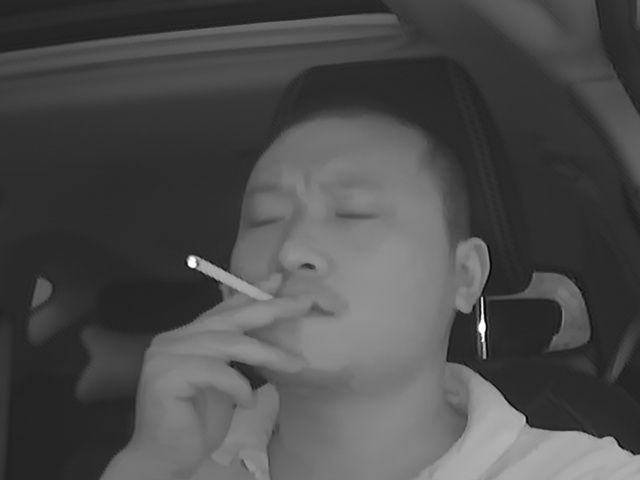hand: (157, 263, 302, 417)
